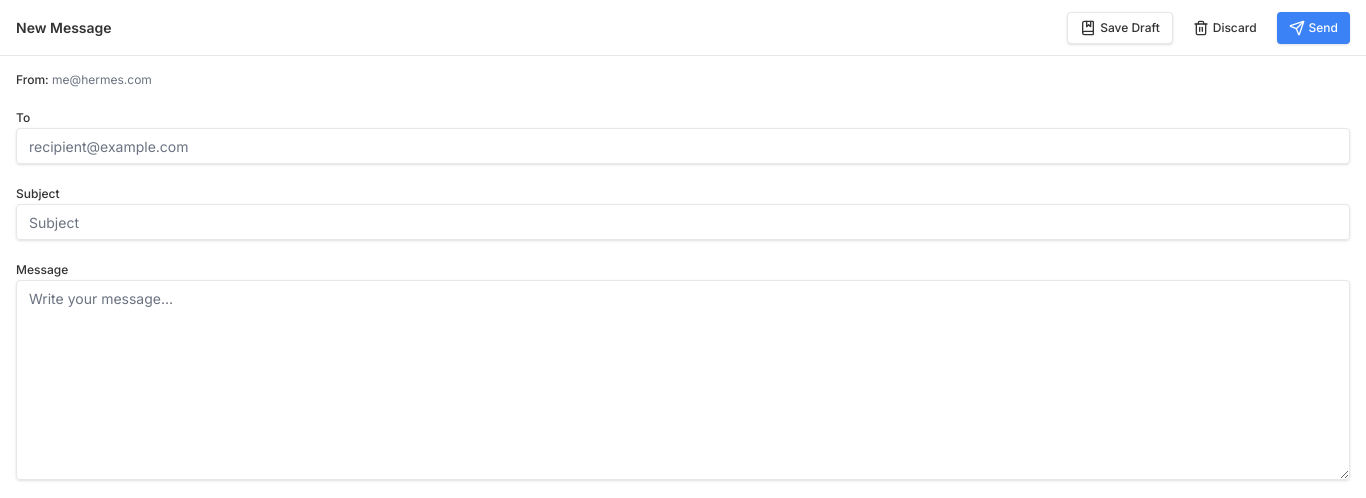
Test case: ComposeEditor › navigation guard › clears guard when draft is saved (no longer dirty)
Type "someone@example.com" into the field with test id "compose-to" at {"x": 683, "y": 146}, box [16,128,1350,164]
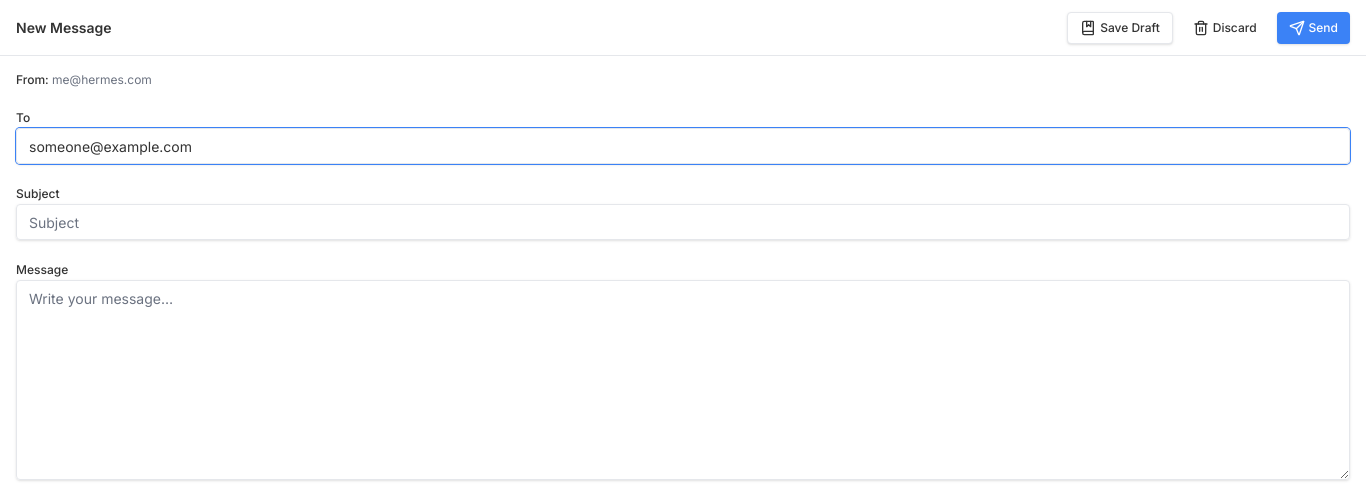
Click the button with test id "compose-save-draft-button" at {"x": 1120, "y": 28}, box [1067,12,1173,44]
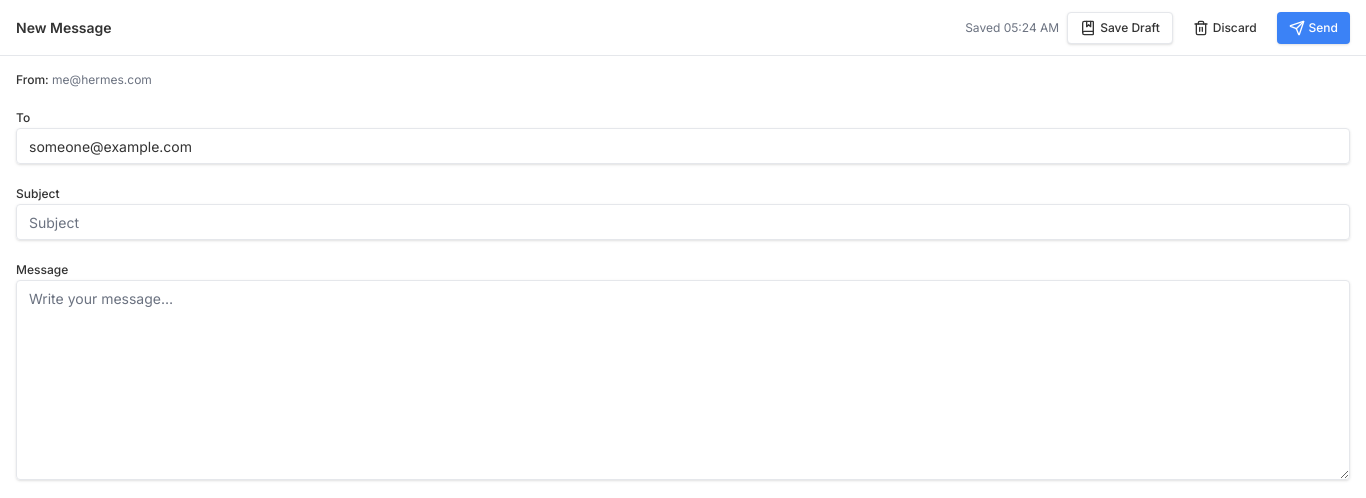
expect the text "Saved 05:24 AM" is shown: met, box [965,20,1059,36]
